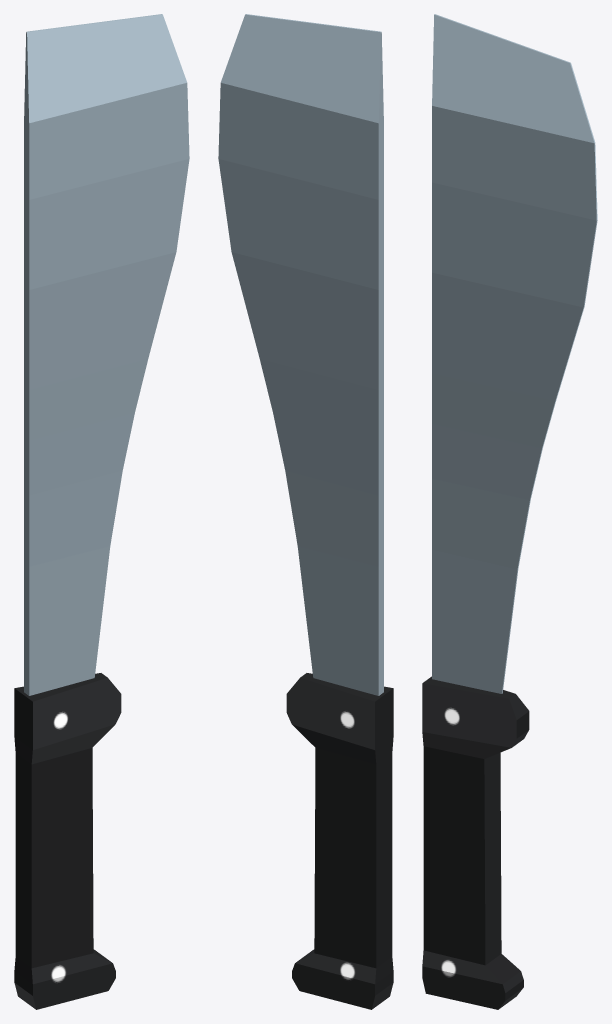
File: Heavy Machete.obj
3 views of the same model, side by side, from view 1: azimuth 30°, elevation 25°; view 2: azimuth 150°, elevation 25°; view 3: azimuth 330°, elevation 25° (orthographic).
Parts seen in each view (by area): view 1: Cube.007; view 2: Cube.007; view 3: Cube.007.
Part boxes in pixels (bbox=[...]): Cube.007: bbox=[14, 14, 189, 1009]; Cube.007: bbox=[218, 14, 393, 1009]; Cube.007: bbox=[422, 14, 597, 1009].
Bounding box in the file's own units: 0.1592 × 0.8927 × 0.0307.
2 materials, 1 textured.
